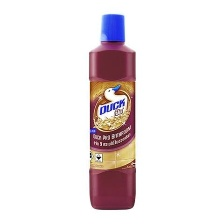cleaning_solution: (83, 6, 139, 212)
